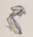microplastic: (5, 4, 28, 36)
